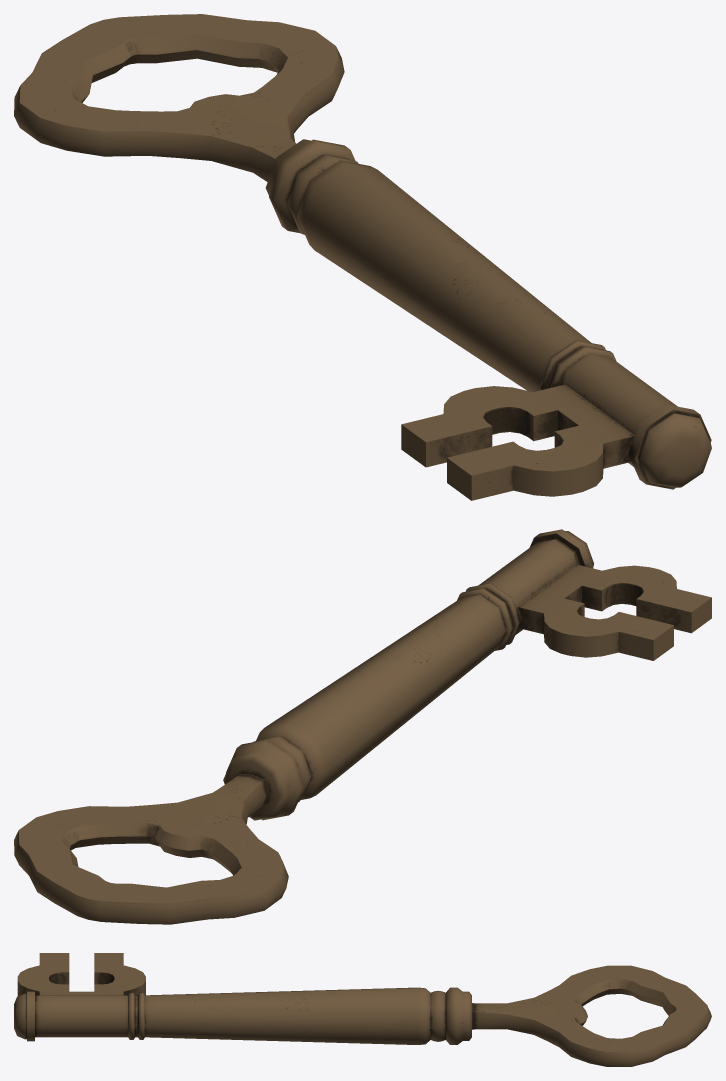
Rendered from Key03.glb.
3 renders of one model, top to bottom at view 1: azimuth 30°, elevation 25°; view 2: azimuth 150°, elevation 25°; view 3: azimuth 270°, elevation 25°, orthographic. The views are drawn at different scales.
Visible parts, largest first — view 1: Circle_001; view 2: Circle_001; view 3: Circle_001.
Part boxes in pixels (x1=…): Circle_001: x1=14, y1=14, x2=711, y2=500; Circle_001: x1=14, y1=529, x2=711, y2=924; Circle_001: x1=14, y1=953, x2=711, y2=1066.
Bounding box in the file's own units: 0.0836 × 0.0216 × 0.2458.
Materials: 1 (1 with a texture image).
